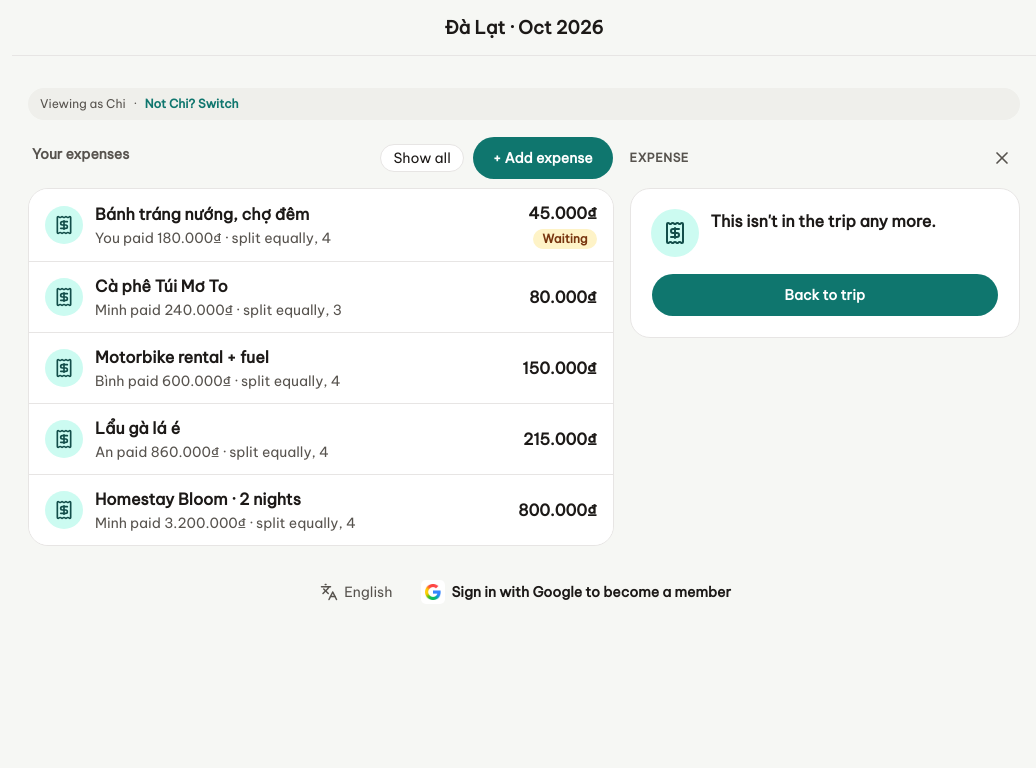
guest page on a wide screen › a missing expense says so and offers the way back
expect the text "This isn't in the trip any more." is shown: met, box [711, 209, 936, 233]
Click the button "Back to trip" at (825, 295), box [651, 273, 999, 317]
(page scrolled)
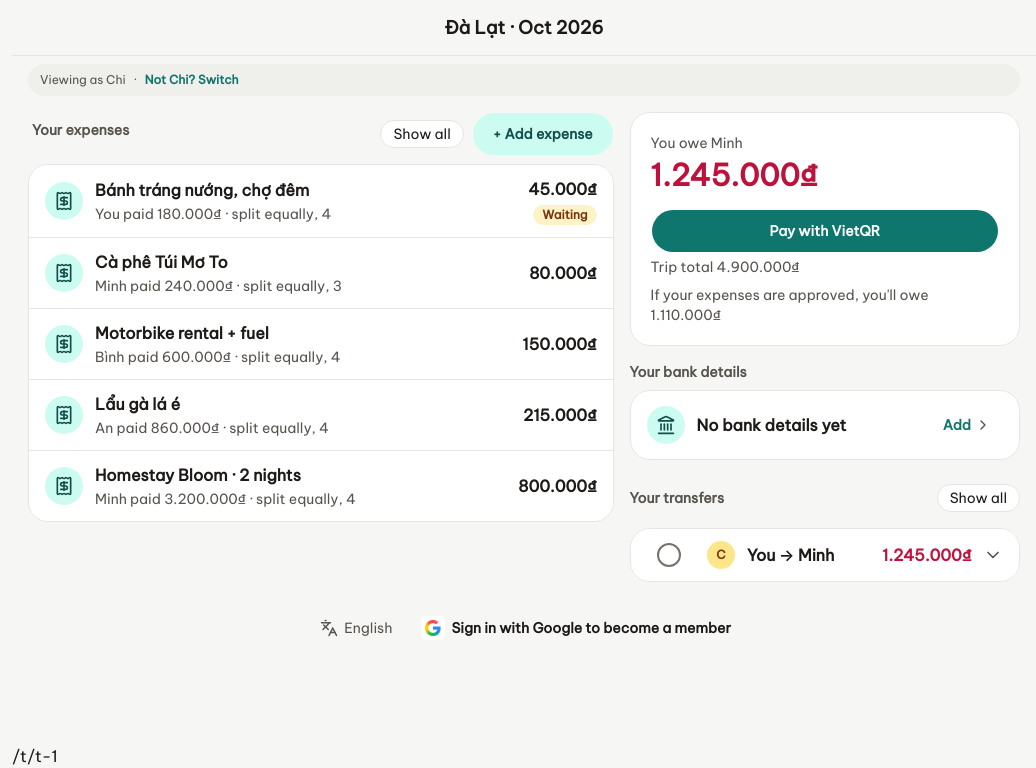
expect the text with test id "location" reads "/t/t-1": met, box [12, 746, 58, 766]
